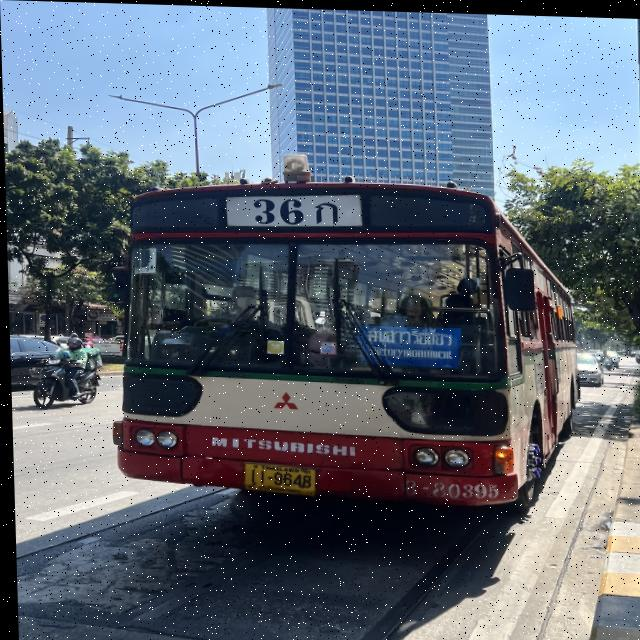BMTA-bus: (110, 178, 577, 507)
Bus Line Number: (231, 191, 350, 231)
Bus Side Number: (391, 473, 508, 502)
Destination Sign: (352, 321, 456, 371)
